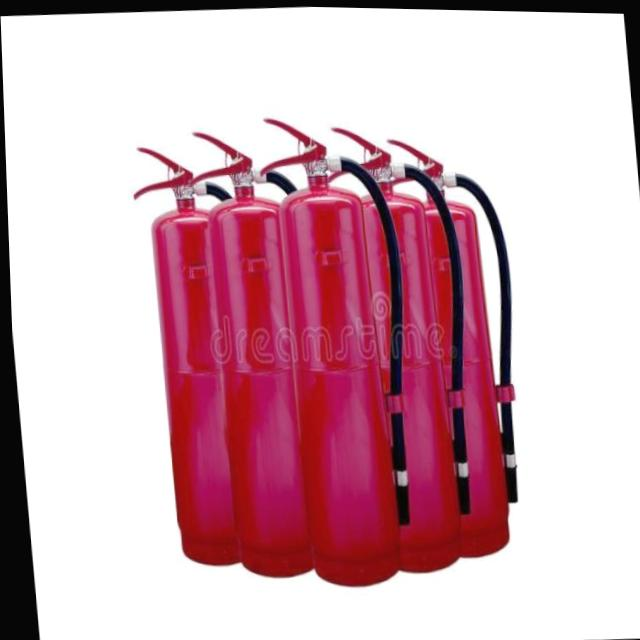FireExtinguisher: (250, 104, 427, 593), (319, 115, 487, 580), (179, 121, 338, 585), (377, 127, 534, 562), (124, 136, 278, 571)
